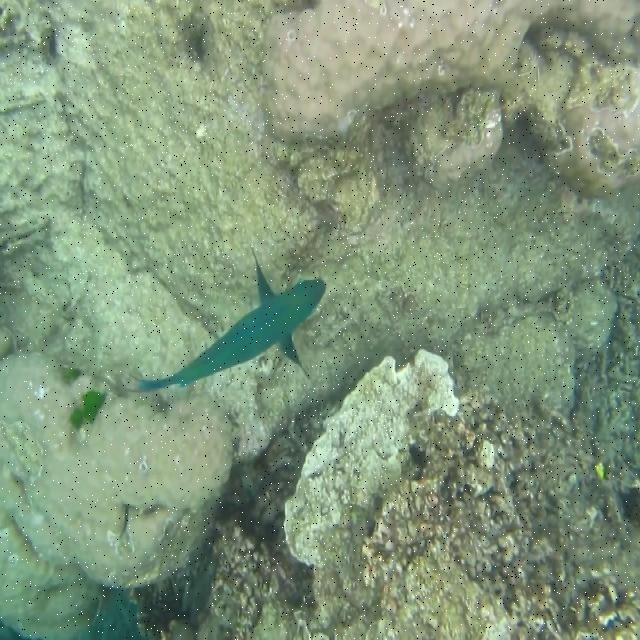fish: (128, 249, 326, 393)
reefs: (1, 352, 234, 639), (263, 4, 638, 144)
